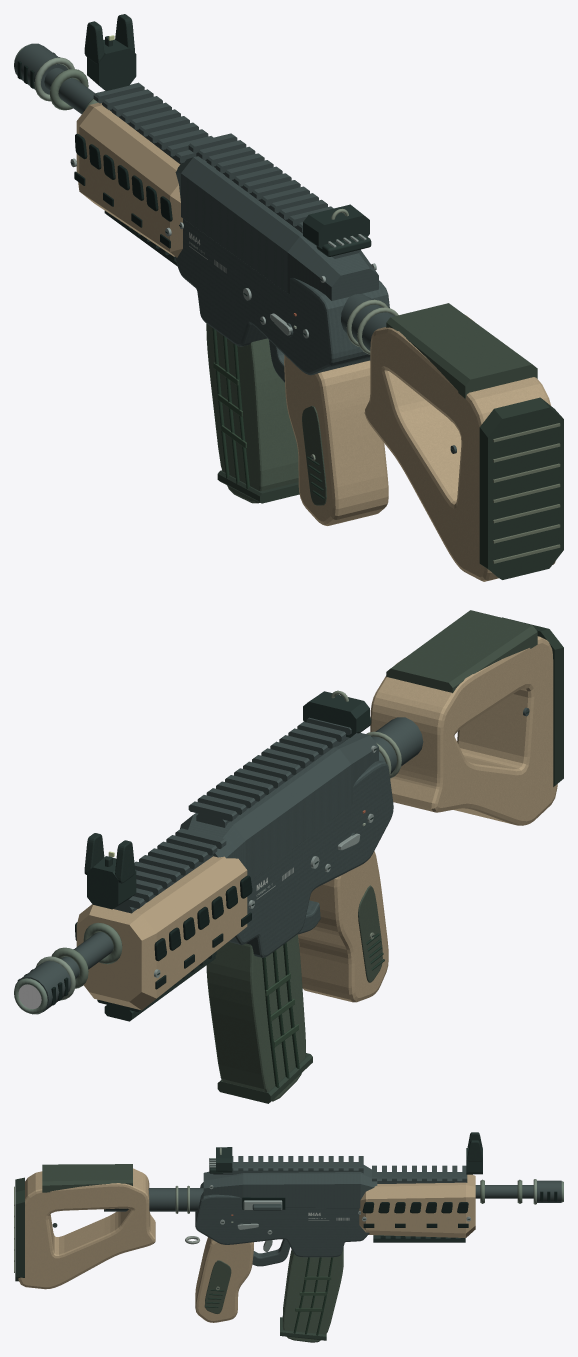
3 renders of one model, top to bottom at view 1: azimuth 30°, elevation 25°; view 2: azimuth 150°, elevation 25°; view 3: azimuth 270°, elevation 25°, orthographic. The views are drawn at different scales.
Visible parts, largest first — view 1: m4a4, magazine; view 2: m4a4, magazine; view 3: m4a4, magazine, bolt.
Boxes of the visible parts, bbox=[...] form: m4a4: bbox=[14, 14, 563, 581]; magazine: bbox=[206, 323, 299, 503]; m4a4: bbox=[14, 610, 563, 1021]; magazine: bbox=[206, 934, 312, 1103]; m4a4: bbox=[14, 1132, 563, 1322]; magazine: bbox=[280, 1247, 343, 1342]; bolt: bbox=[243, 1200, 282, 1210].
Bounding box in the file's own units: 0.1553 × 0.5728 × 1.43.
29 materials, 16 textured.
